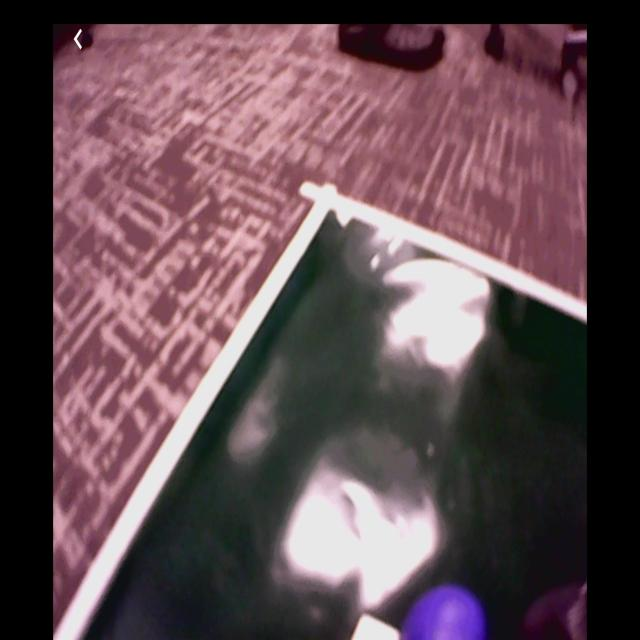ball: (406, 587, 485, 640)
